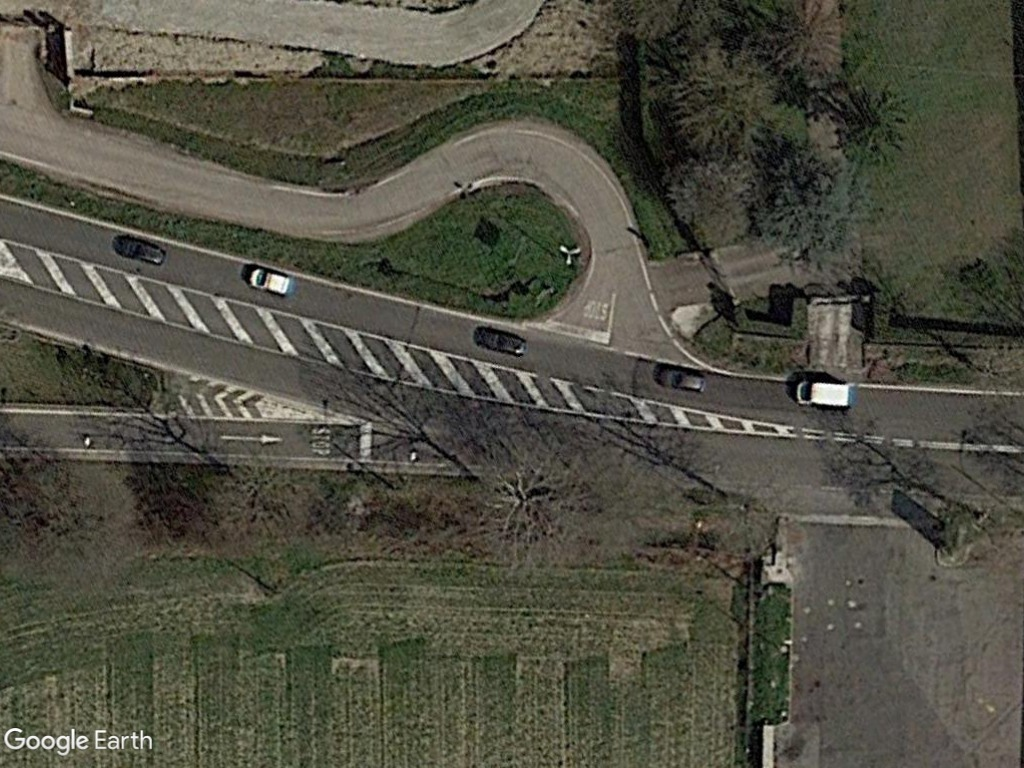car: (110, 232, 171, 269), (473, 324, 533, 361), (654, 360, 710, 398), (242, 263, 298, 298)
van: (790, 376, 859, 412)
